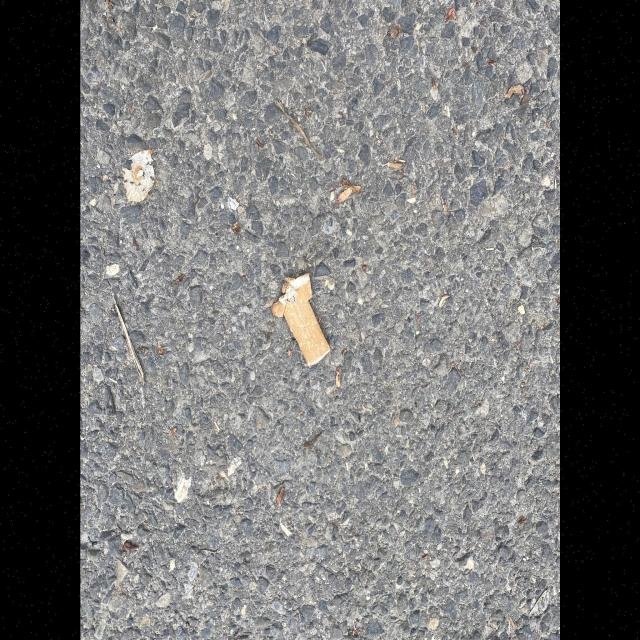other waste: (271, 273, 331, 367)
